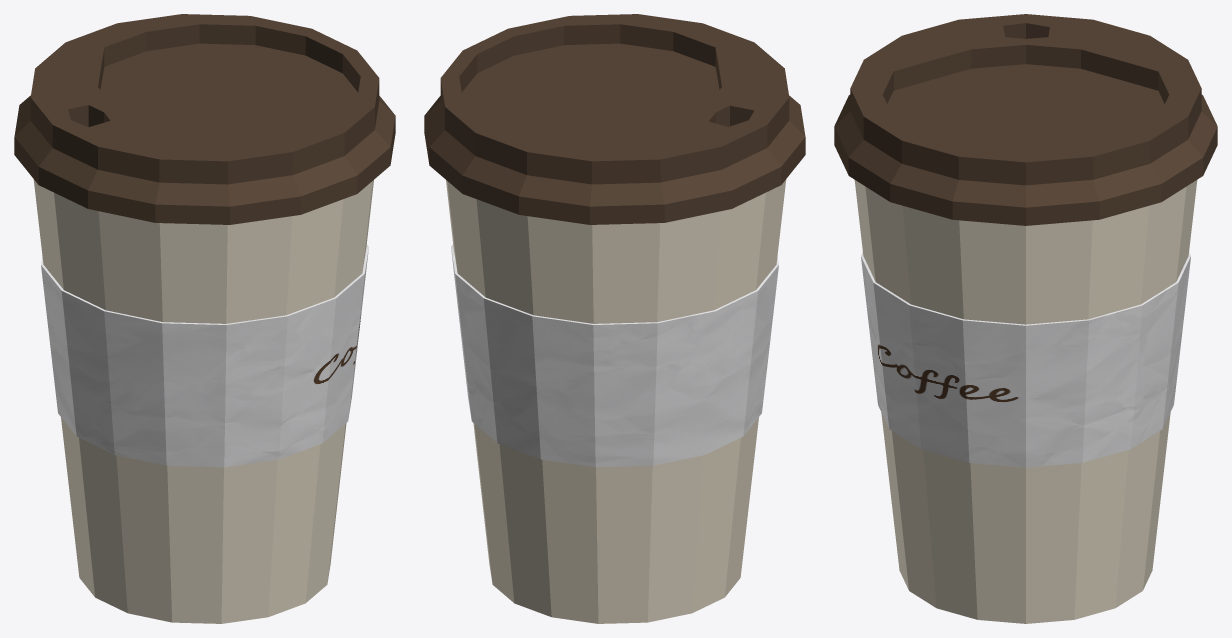
File: coffe4.gltf
The picture shows the model from 3 angles, left to right: view 1: azimuth 30°, elevation 25°; view 2: azimuth 150°, elevation 25°; view 3: azimuth 270°, elevation 25°; orthographic projection.
Parts seen in each view (by area): view 1: Cylinder, Cylinder.001, Cylinder.002; view 2: Cylinder, Cylinder.001, Cylinder.002; view 3: Cylinder, Cylinder.001, Cylinder.002.
Boxes of the visible parts, left/top/right/bottom form: Cylinder: left=33, top=179, right=373, bottom=623; Cylinder.001: left=14, top=14, right=395, bottom=224; Cylinder.002: left=41, top=244, right=368, bottom=467; Cylinder: left=446, top=179, right=786, bottom=623; Cylinder.001: left=424, top=14, right=805, bottom=224; Cylinder.002: left=451, top=244, right=778, bottom=467; Cylinder: left=854, top=180, right=1197, bottom=623; Cylinder.001: left=834, top=14, right=1217, bottom=225; Cylinder.002: left=861, top=252, right=1190, bottom=467.
Size of the model in its own units: 2.18 by 3.02 by 2.18.
Materials: 3 (1 with a texture image).
